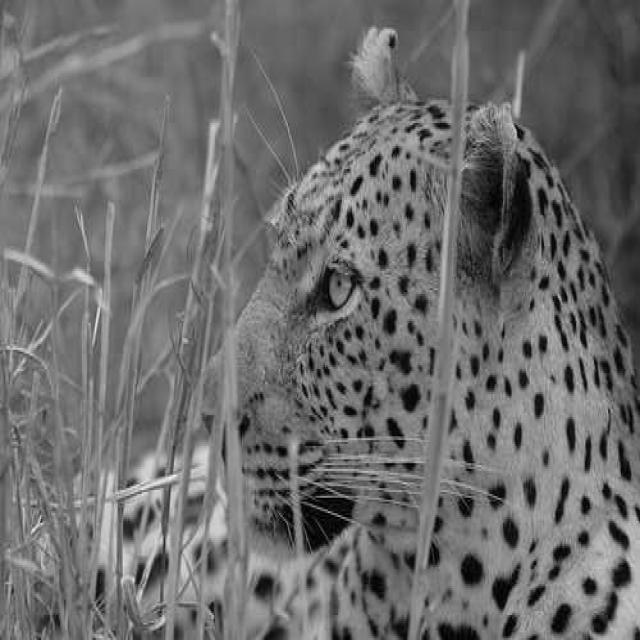Leopard: (197, 23, 639, 638)
